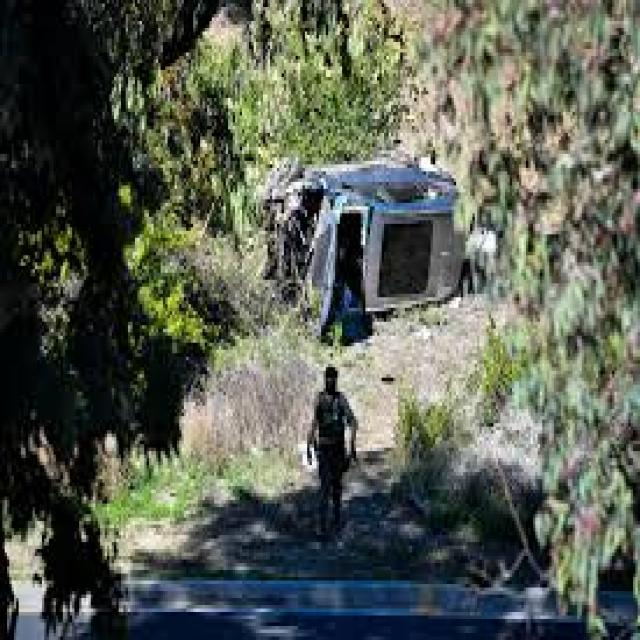accident: (244, 146, 482, 359)
